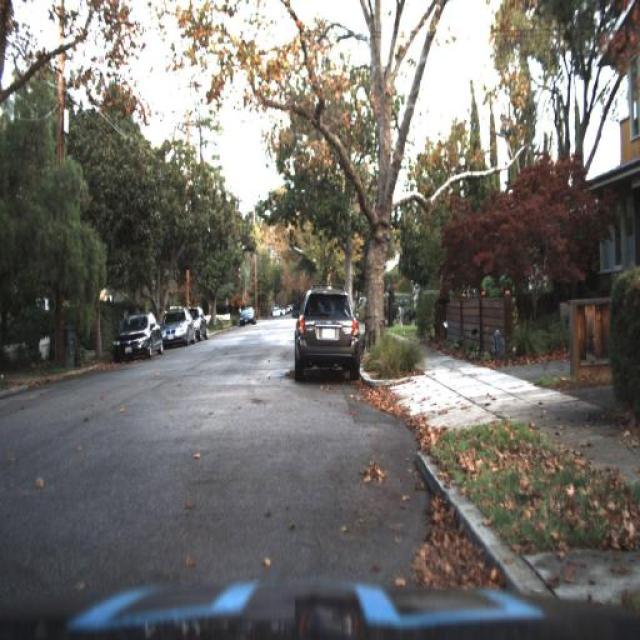car: (287, 284, 365, 384), (113, 306, 162, 366), (160, 305, 192, 349), (188, 304, 208, 342), (237, 304, 257, 326)
